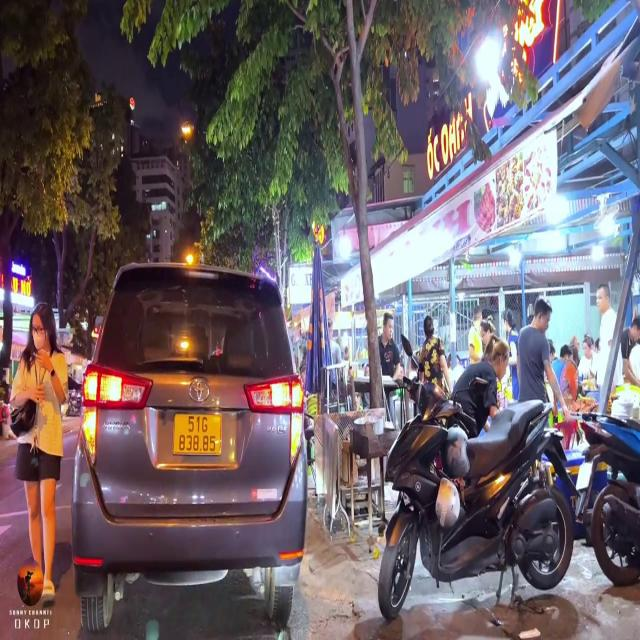bien_vang: (172, 413, 222, 454)
